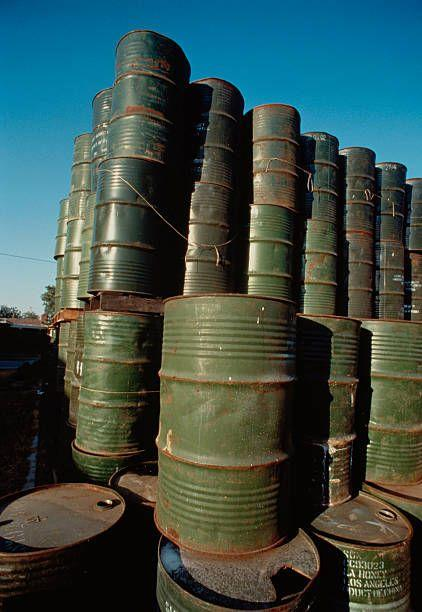metal: (154, 296, 312, 608), (78, 40, 180, 476), (184, 82, 245, 293), (308, 494, 415, 612), (246, 104, 303, 302), (301, 137, 339, 314), (342, 150, 377, 315), (114, 30, 189, 85)
